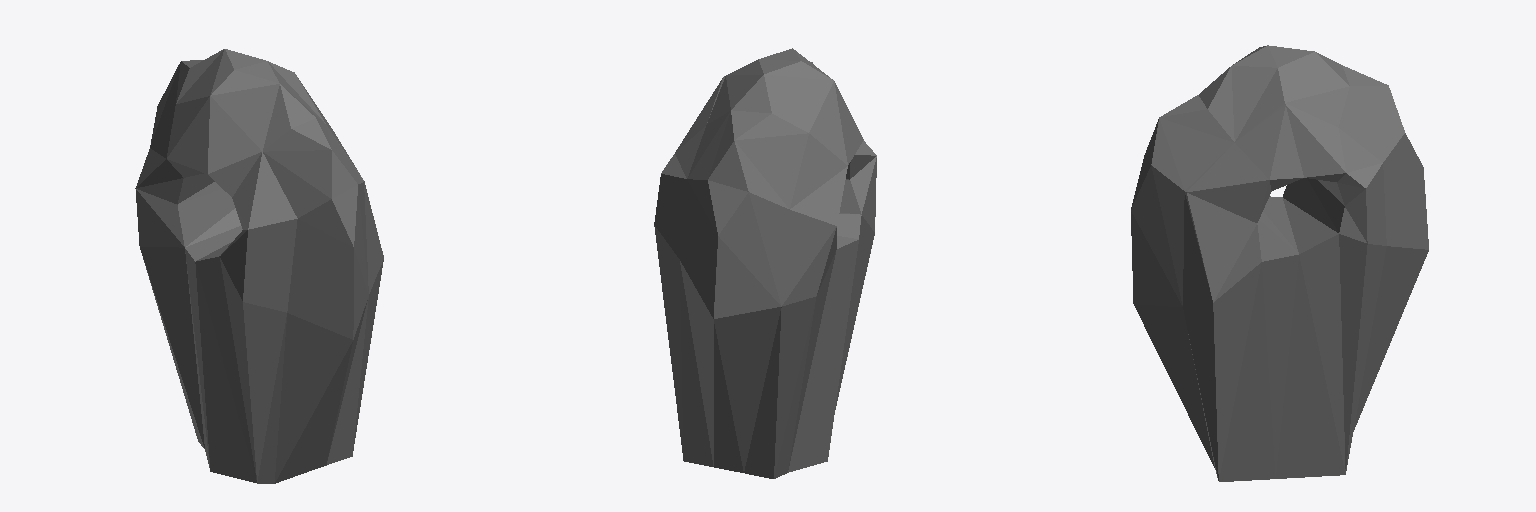
The model's file is Rock_Rune_001.obj.
3 views of the same model, side by side, from view 1: azimuth 30°, elevation 25°; view 2: azimuth 150°, elevation 25°; view 3: azimuth 270°, elevation 25° (orthographic).
Parts seen in each view (by area): view 1: polySurface3 polySurface2 Piedra_de__mierda:pCylinder3; view 2: polySurface3 polySurface2 Piedra_de__mierda:pCylinder3; view 3: polySurface3 polySurface2 Piedra_de__mierda:pCylinder3.
Part boxes in pixels (left/top/right/bottom): polySurface3 polySurface2 Piedra_de__mierda:pCylinder3: left=135, top=49, right=383, bottom=483; polySurface3 polySurface2 Piedra_de__mierda:pCylinder3: left=654, top=48, right=876, bottom=478; polySurface3 polySurface2 Piedra_de__mierda:pCylinder3: left=1131, top=45, right=1428, bottom=481.
Size of the model in its own units: 112 by 223 by 152.